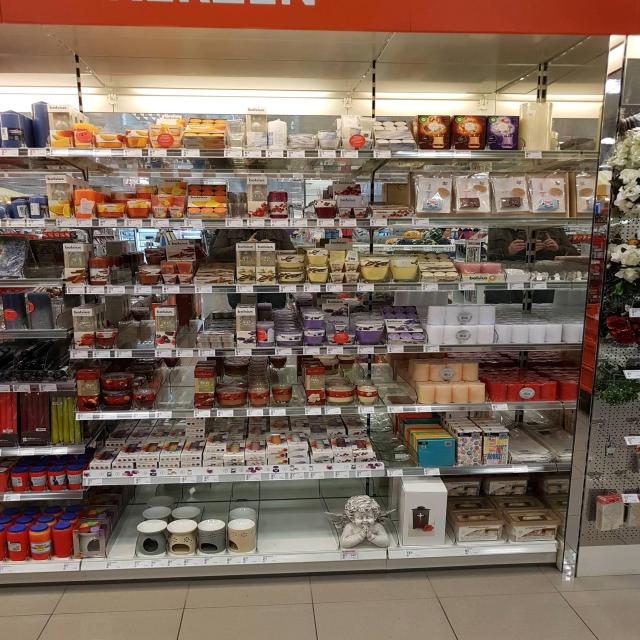empty_space: (262, 486, 329, 546), (514, 416, 564, 453), (557, 116, 594, 148), (111, 500, 133, 551), (30, 244, 58, 277)
